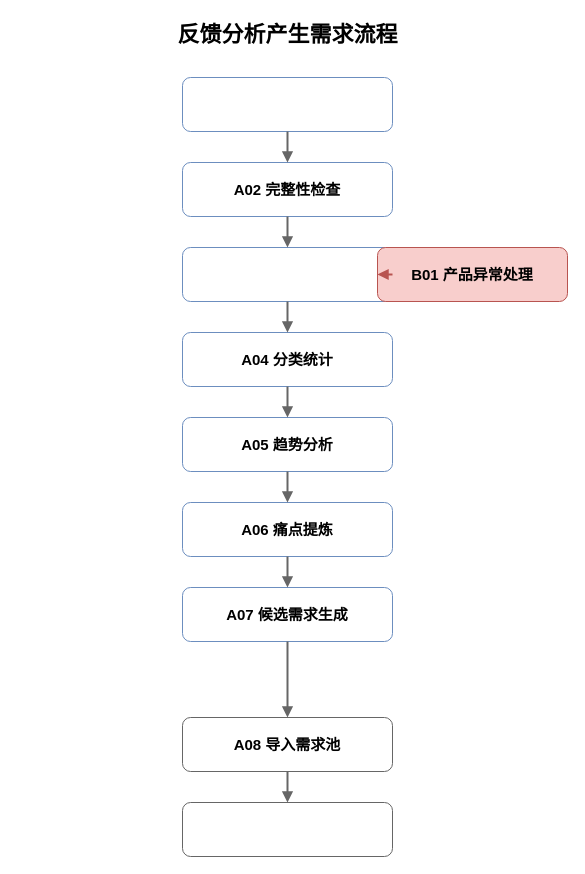
The diagram is 585 pixels wide and 874 high, and some of its shapes have lost their labels. Each missing label, with the box of its shape:
A01 信息包接收: (182, 76, 392, 132)
A03 有效性甄别: (182, 246, 392, 302)
A09 现有系统承接: (182, 802, 392, 856)
